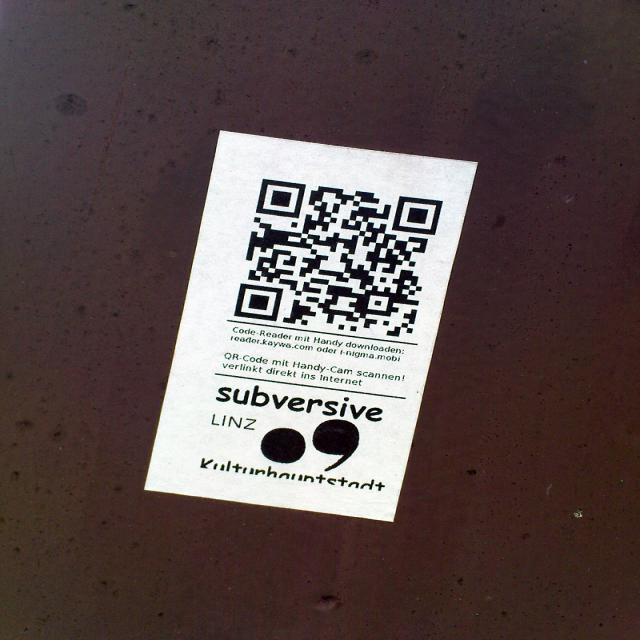qrcode: (235, 180, 444, 339)
